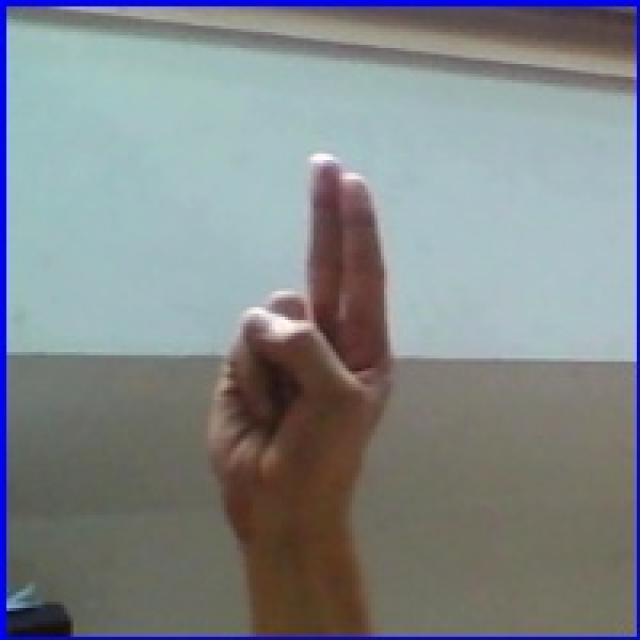Letra-U: (179, 133, 421, 568)
